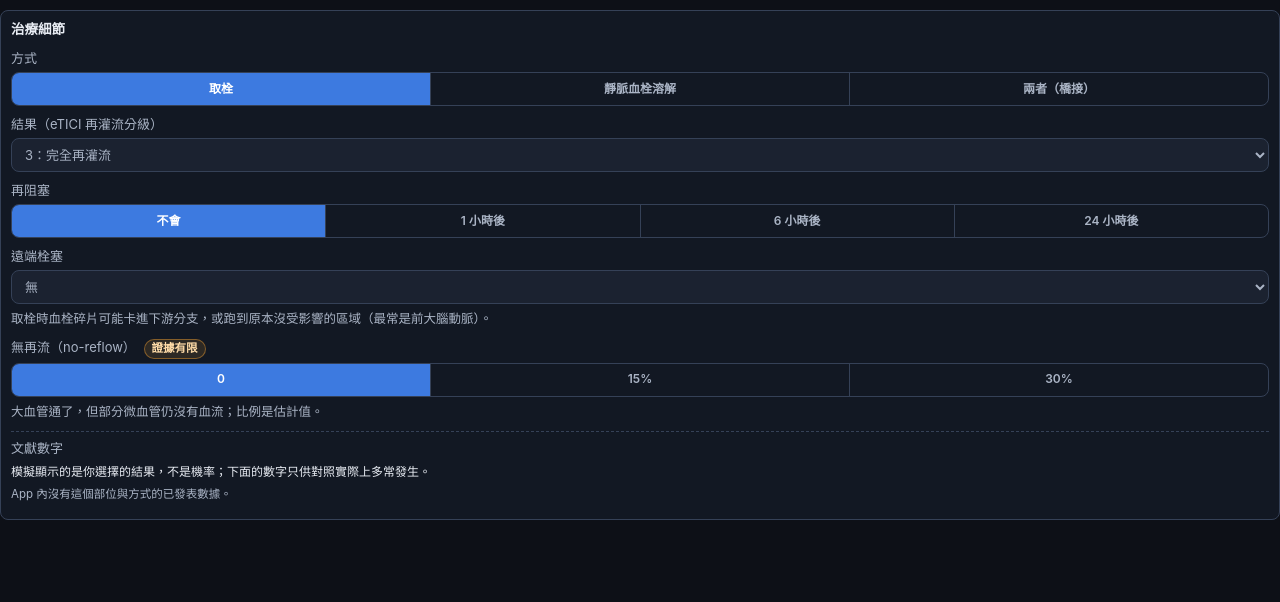
warnings › IV thrombolysis with flow back at 8 h is outside its usual window; thrombectomy at 8 h is not
The image size is (1280, 602).
Expected: the text "靜脈血栓溶解須在發作後 4.5 小時內開始用藥" is not shown
Step 1. Click the radio button labelled "靜脈血栓溶解" → (640, 89), box x1=430 y1=73 x2=849 y2=105
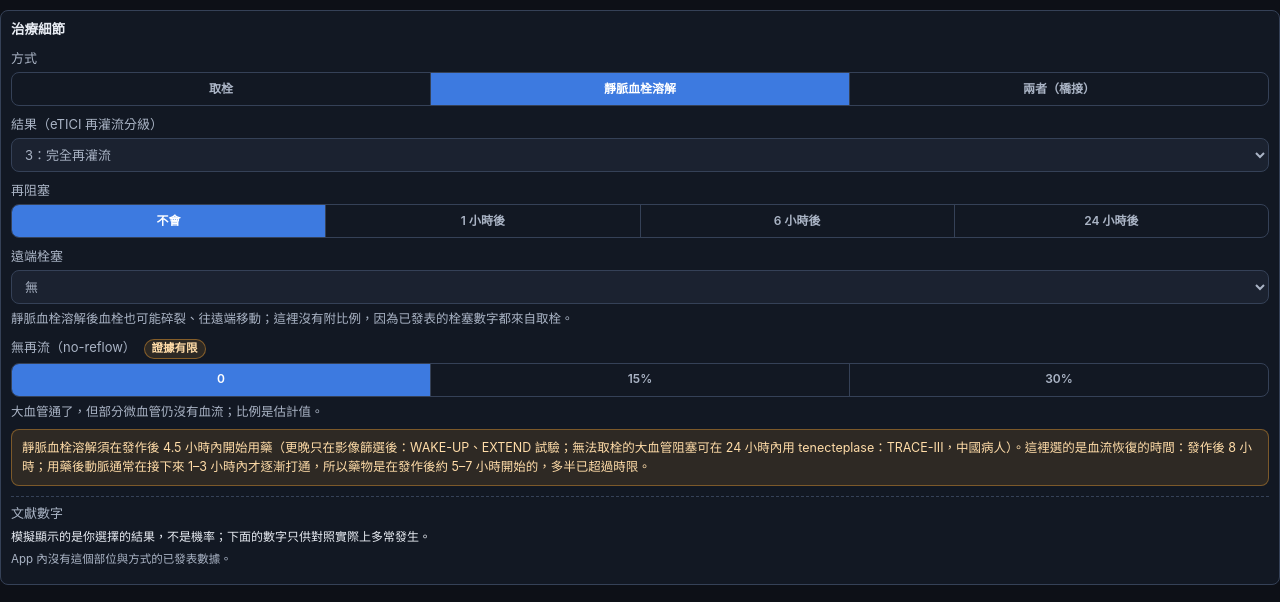
bridging: thrombectomy sets the time, so a neutral note instead of the warning (R4-8)
Step 2. Click the radio button labelled "兩者（橋接）" → (1058, 89), box x1=849 y1=73 x2=1268 y2=105
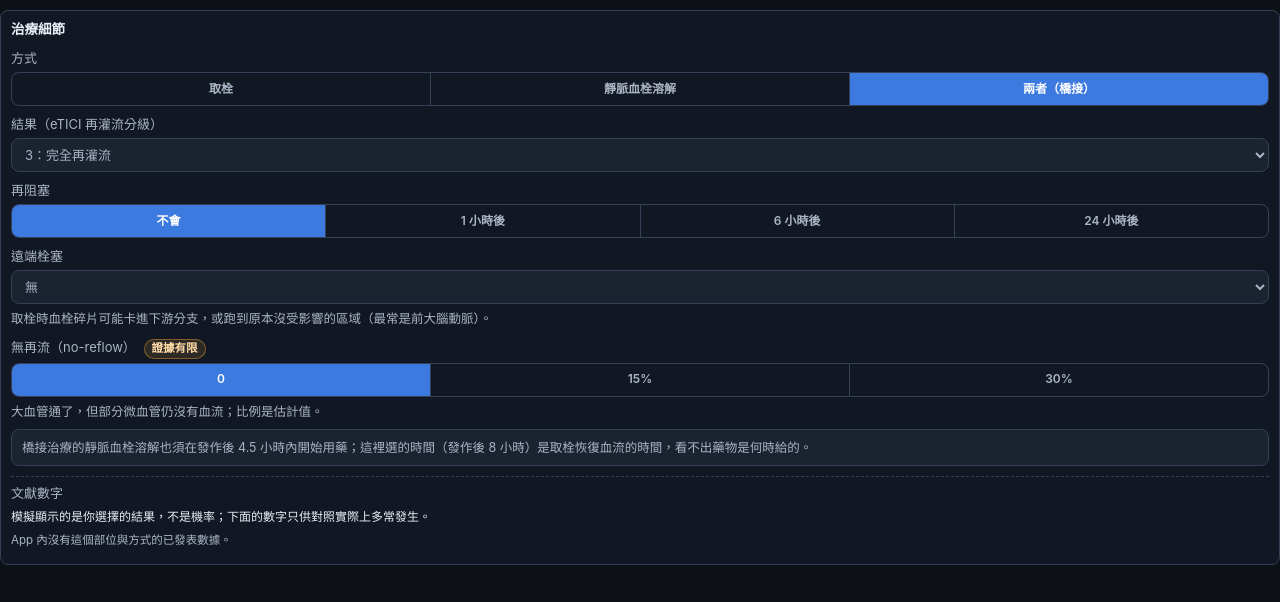
Now the text "靜脈血栓溶解須在發作後 4.5 小時內開始用藥" is gone
